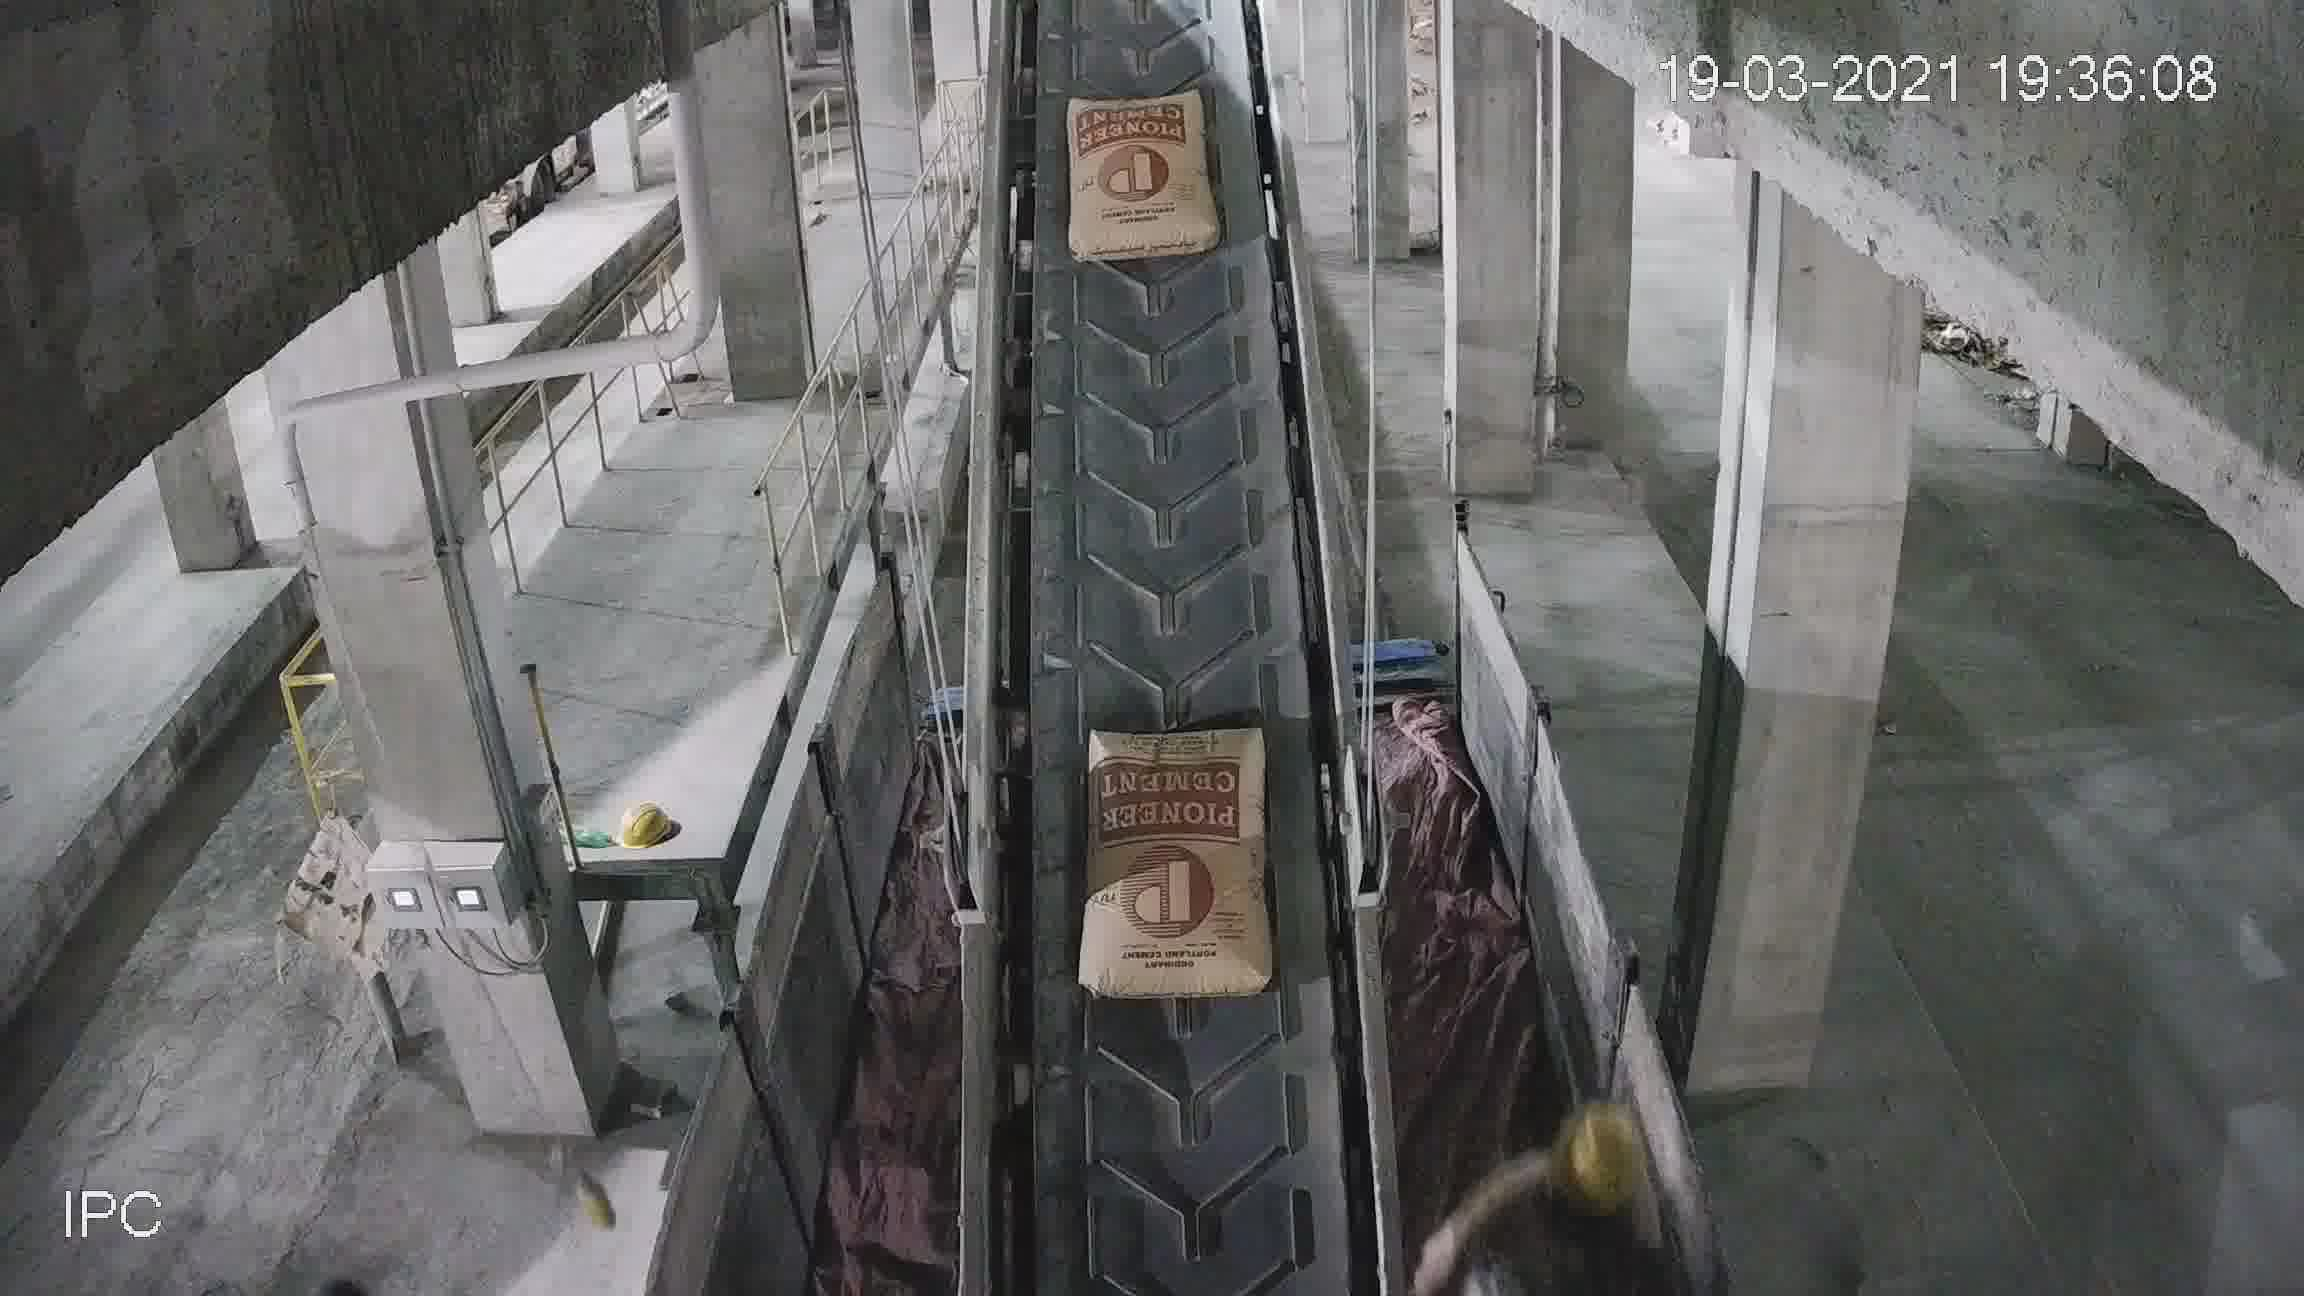bag: (1079, 725, 1271, 1005), (1067, 95, 1214, 263)
belt: (968, 47, 1381, 1296)
